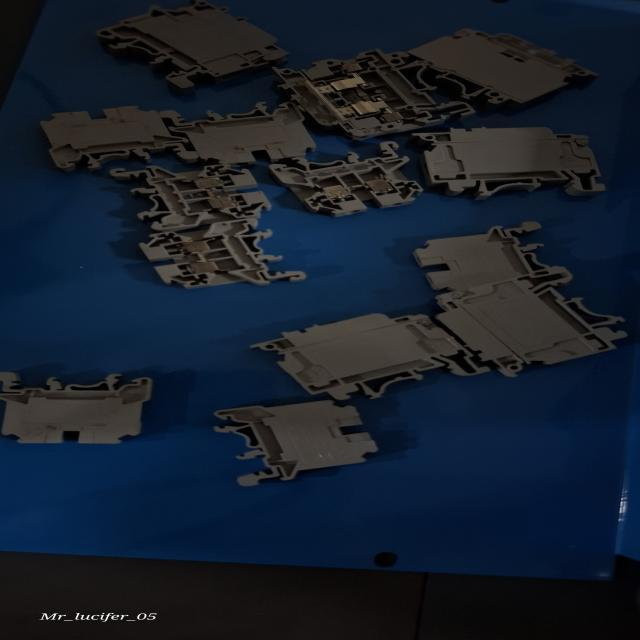Inverted: (204, 396, 396, 492), (5, 372, 164, 453), (26, 104, 195, 170), (171, 102, 341, 166)
Pass: (135, 219, 317, 294), (265, 140, 427, 218), (100, 164, 270, 228)
